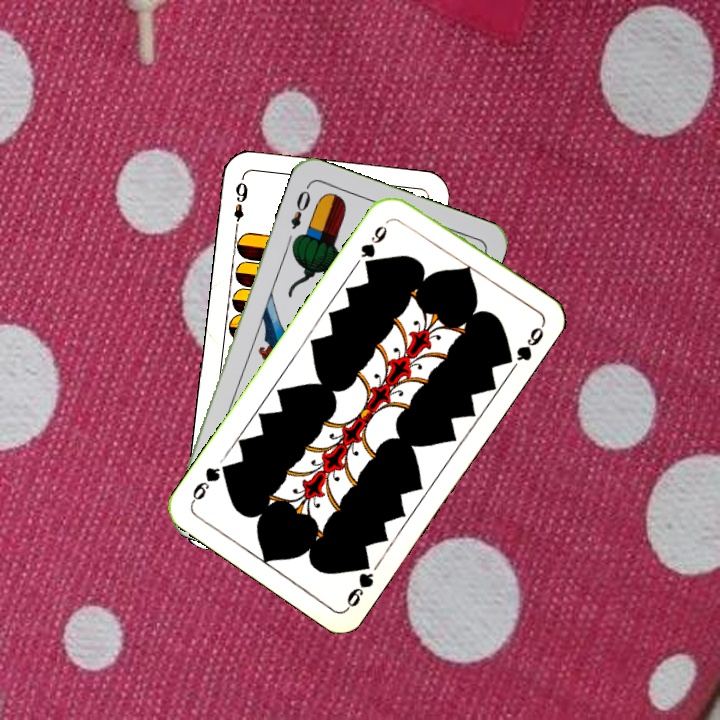E9: (230, 178, 251, 234)
EO: (286, 181, 313, 232)
G9: (342, 554, 377, 612), (356, 221, 390, 271)
